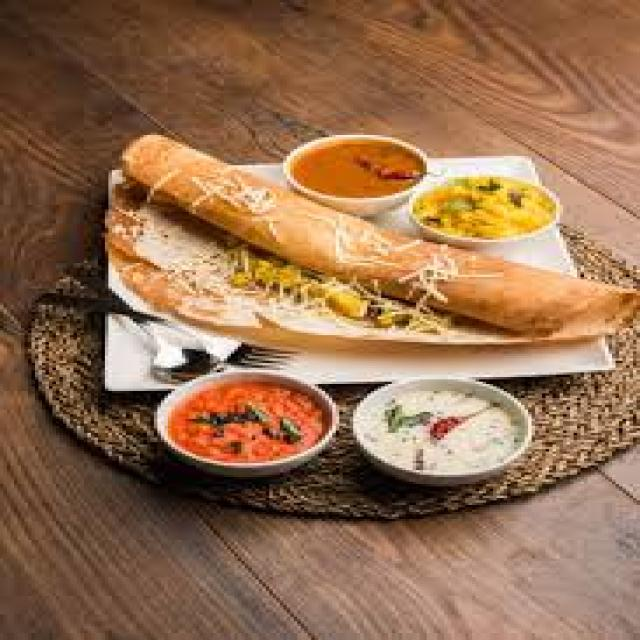DOSA: (98, 139, 633, 342)
